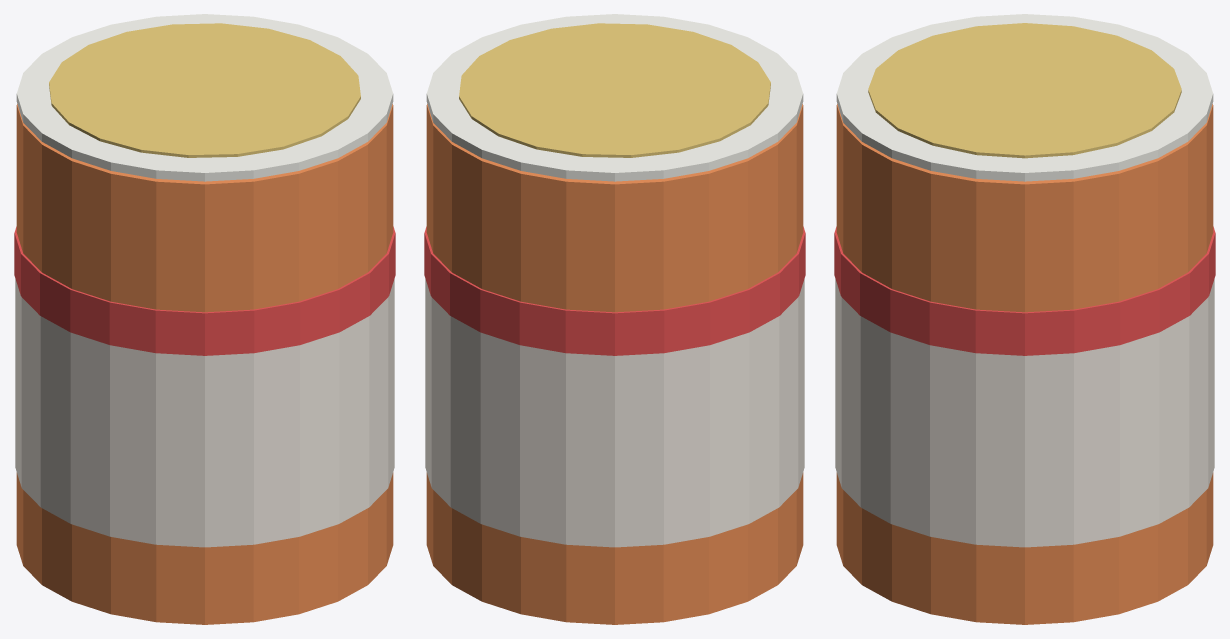
Rendered from cup_noodle.fbx.
3 views of the same model, side by side, from view 1: azimuth 30°, elevation 25°; view 2: azimuth 150°, elevation 25°; view 3: azimuth 270°, elevation 25° (orthographic).
Visible parts, largest first — view 1: CN_Cup, CN_Label, CN_Broth, CN_Lid, CN_Stripe; view 2: CN_Cup, CN_Label, CN_Broth, CN_Lid, CN_Stripe; view 3: CN_Cup, CN_Label, CN_Broth, CN_Lid, CN_Stripe.
Boxes of the visible parts, bbox=[...] form: CN_Cup: bbox=[16, 104, 393, 624]; CN_Label: bbox=[15, 279, 394, 547]; CN_Broth: bbox=[49, 23, 360, 157]; CN_Lid: bbox=[16, 14, 393, 181]; CN_Stripe: bbox=[14, 226, 395, 355]; CN_Cup: bbox=[426, 104, 803, 624]; CN_Label: bbox=[425, 279, 804, 547]; CN_Broth: bbox=[459, 23, 770, 157]; CN_Lid: bbox=[426, 14, 803, 181]; CN_Stripe: bbox=[424, 226, 805, 355]; CN_Cup: bbox=[836, 104, 1213, 624]; CN_Label: bbox=[835, 279, 1214, 547]; CN_Broth: bbox=[868, 23, 1181, 158]; CN_Lid: bbox=[836, 14, 1213, 181]; CN_Stripe: bbox=[834, 226, 1215, 355].
Size of the model in its own units: 0.486 by 0.642 by 0.486.
